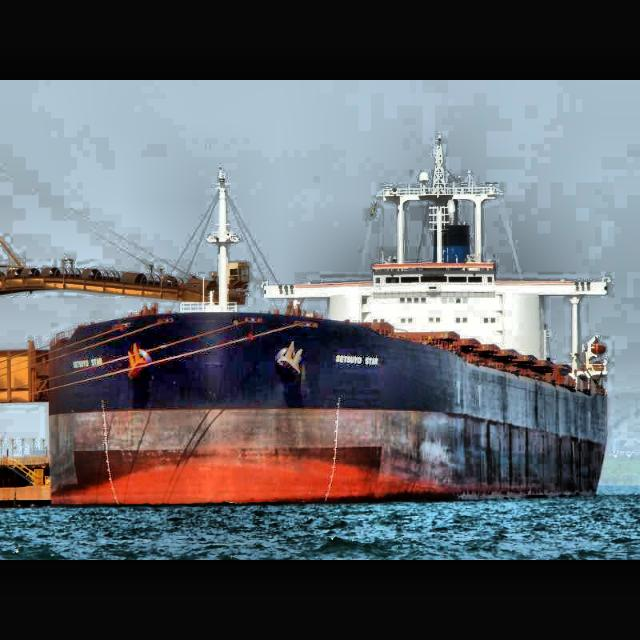bulk_carrier: (47, 170, 617, 508)
